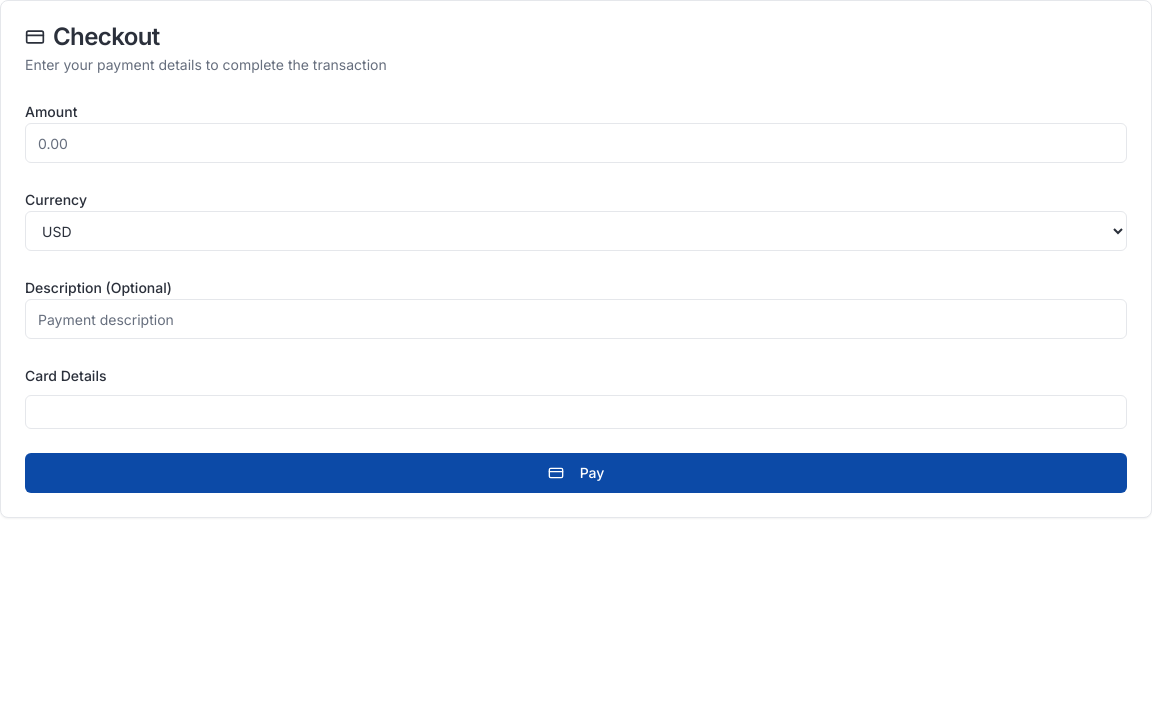
Test: Checkout › should show validation error for invalid amount
This screenshot has width=1152, height=720.
Type invalid amount (0)
Type "0" into the number field labelled "Amount" at (576, 143), box [25,123,1127,163]
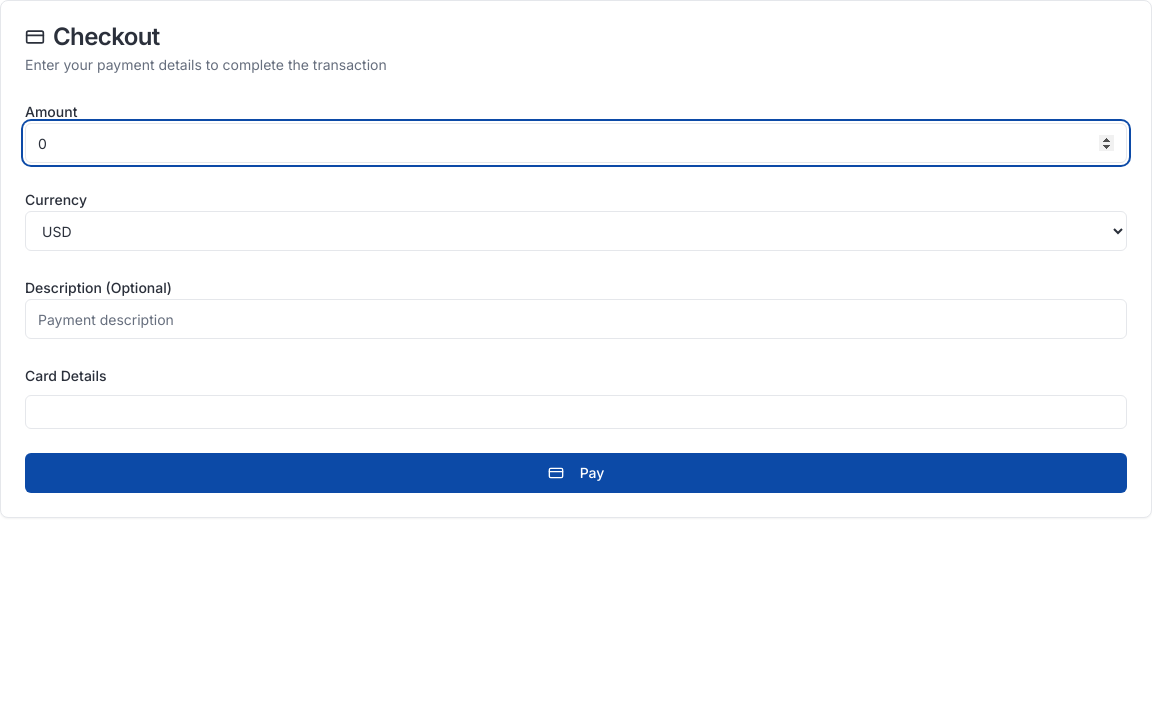
Submit form using fireEvent to ensure react-hook-form validation runs
Submit the form labelled "Amount Currency Description (Optional) Card Details Pay", box [25,99,1127,493]
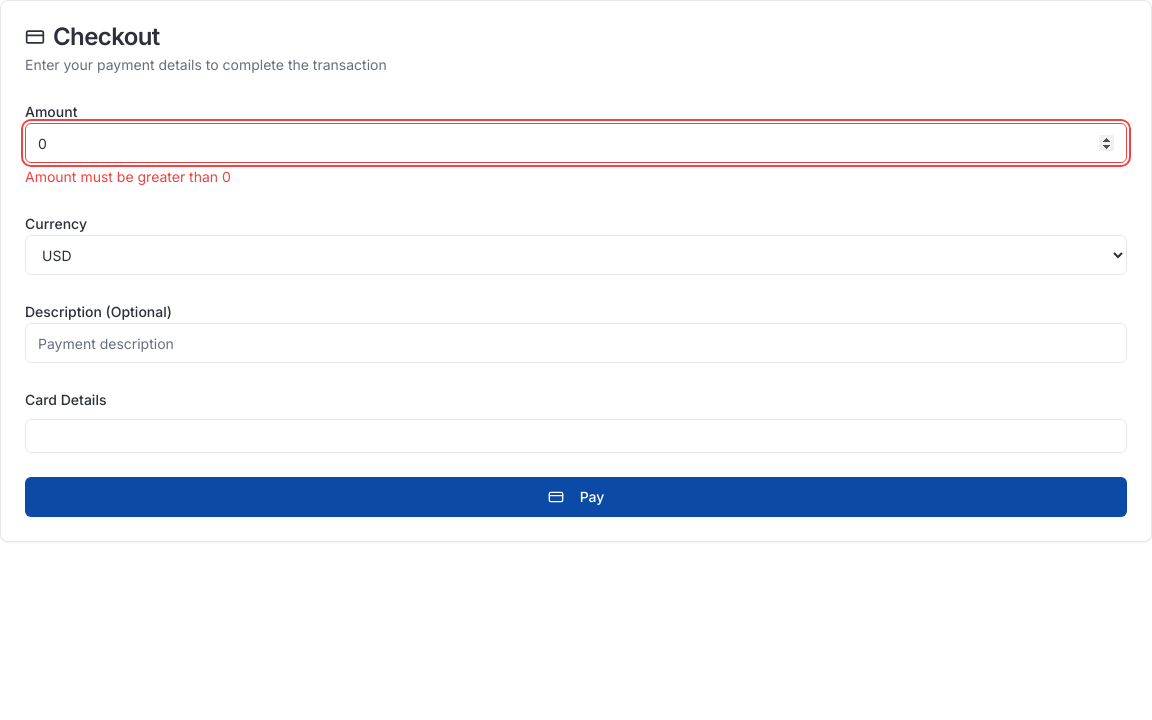
Expected: the text with test id "amount-error" reads "Amount must be greater than 0", [25,168,231,185]
